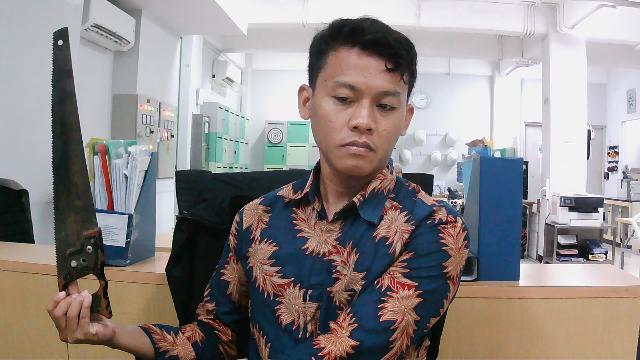gergaji_kayu: (24, 23, 124, 347)
